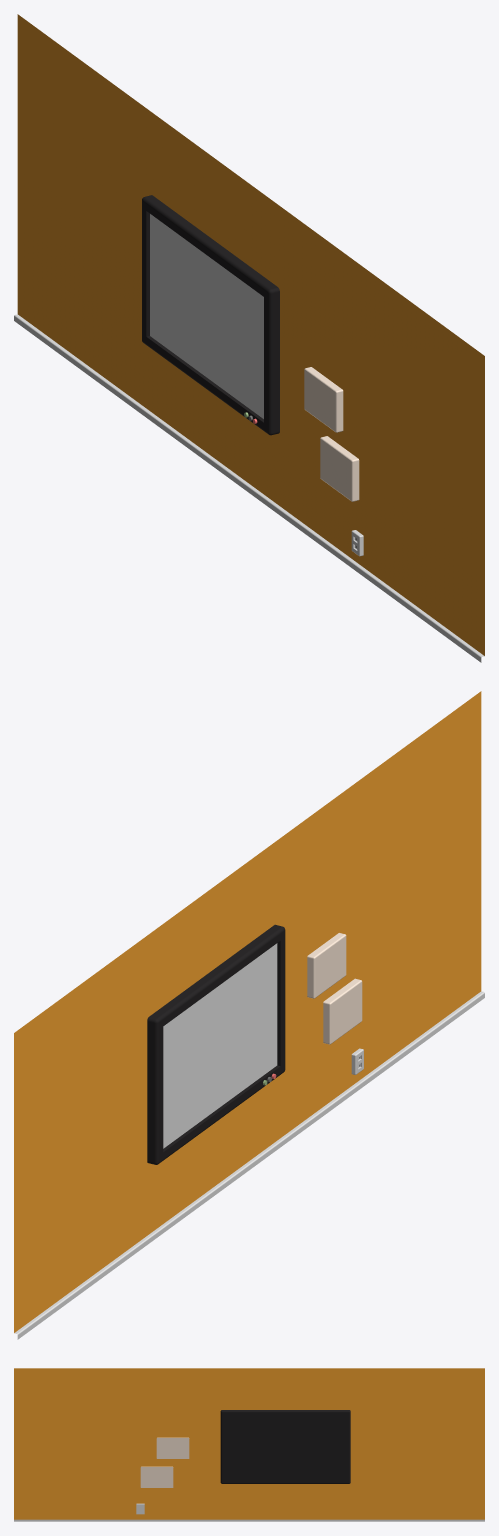
File: display.glb
3 renders of one model, top to bottom at view 1: azimuth 30°, elevation 25°; view 2: azimuth 150°, elevation 25°; view 3: azimuth 270°, elevation 25°, orthographic. The views are drawn at different scales.
Visible parts, largest first — view 1: 平面, 立方体, 立方体.002, 立方体.003; view 2: 平面, 立方体, 立方体.003, 立方体.002; view 3: 平面, 立方体, 立方体.002, 立方体.003.
Boxes of the visible parts, <box> form: 平面: <box>14,14,484,662</box>; 立方体: <box>142,195,279,435</box>; 立方体.002: <box>304,367,343,432</box>; 立方体.003: <box>320,436,359,501</box>; 平面: <box>14,691,484,1339</box>; 立方体: <box>147,924,285,1164</box>; 立方体.003: <box>323,978,362,1044</box>; 立方体.002: <box>307,933,346,998</box>; 平面: <box>14,1368,484,1521</box>; 立方体: <box>220,1410,350,1483</box>; 立方体.002: <box>156,1437,189,1458</box>; 立方体.003: <box>140,1466,173,1487</box>.
Bounding box in the file's own units: 0.1079 × 1.9 × 5.26.
